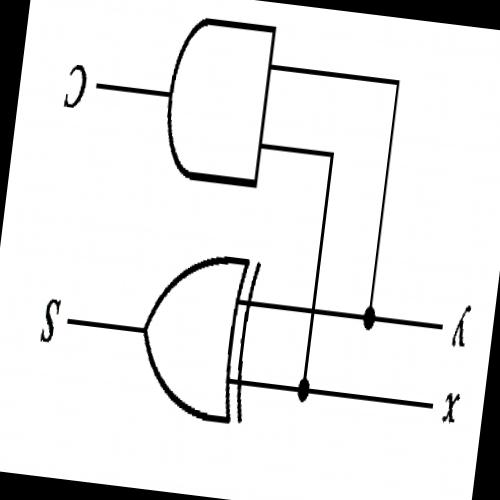and: (152, 4, 284, 198)
xor: (112, 235, 278, 438)
